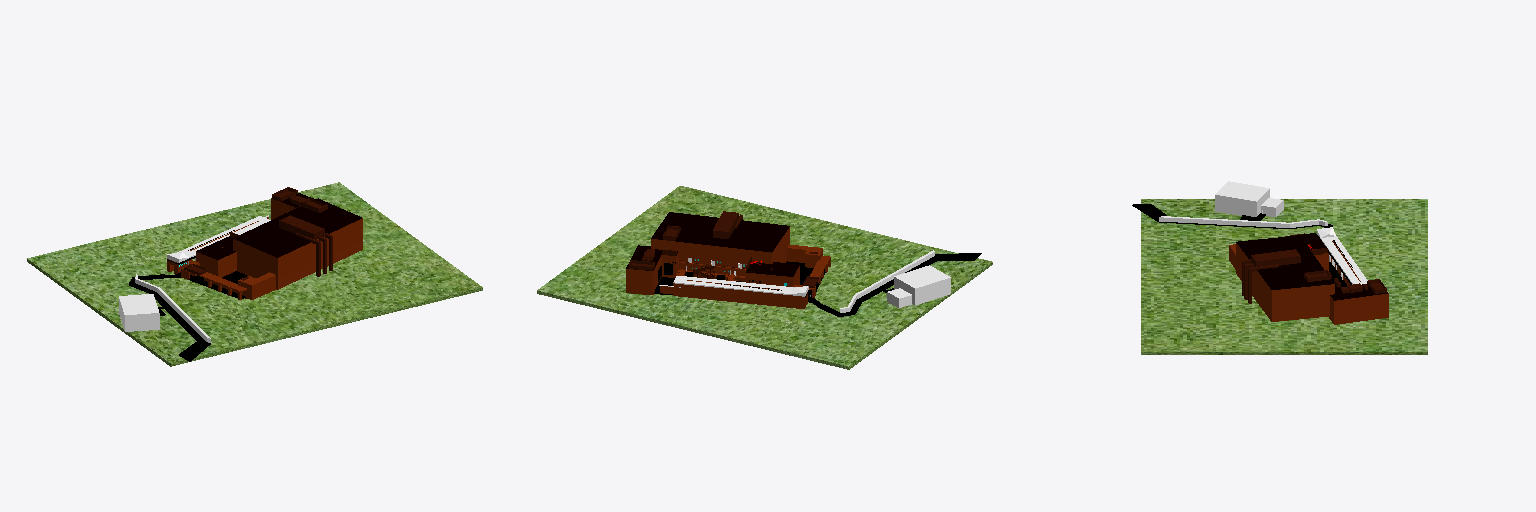
The picture shows the model from 3 angles: view 1: azimuth 30°, elevation 25°; view 2: azimuth 150°, elevation 25°; view 3: azimuth 270°, elevation 25°; orthographic projection.
Visible parts, largest first — view 1: pCube1056; view 2: pCube1056; view 3: pCube1056.
Part boxes in pixels (x1,y1,x2,y2): pCube1056: (27, 182, 482, 366); pCube1056: (537, 186, 992, 369); pCube1056: (1132, 181, 1427, 354).
Size of the model in its own units: 22.1 by 2.96 by 18.01.
Materials: 58 (1 with a texture image).